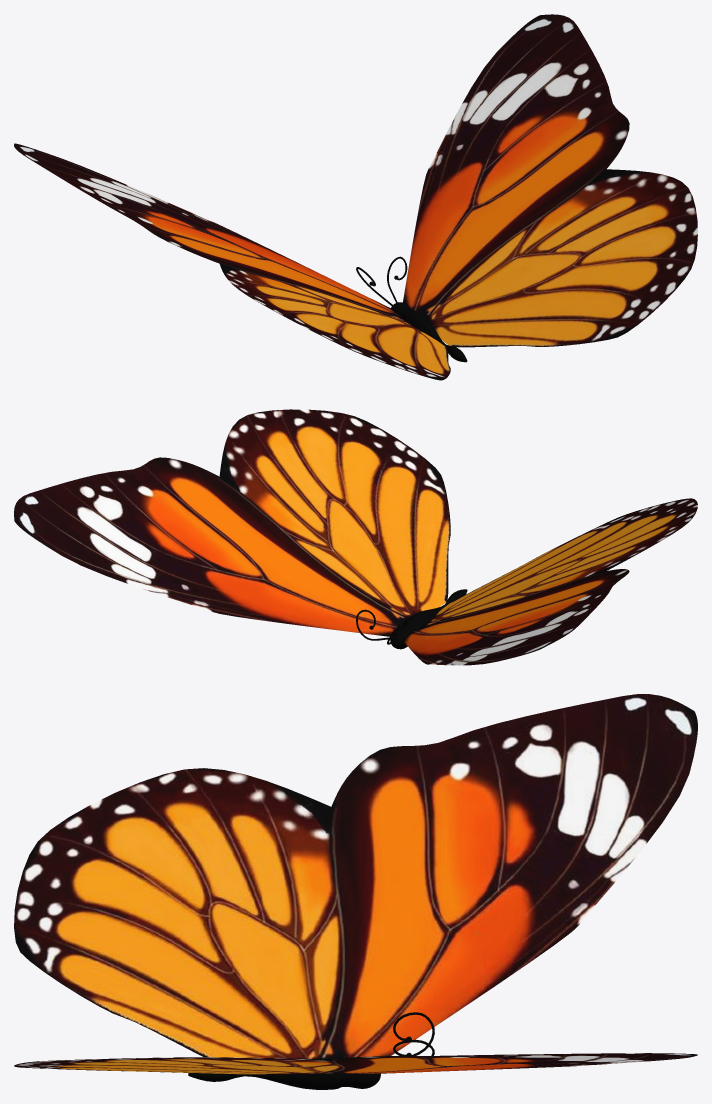
Rendered from butterfly.glb.
The picture shows the model from 3 angles, top to bottom: view 1: azimuth 30°, elevation 25°; view 2: azimuth 150°, elevation 25°; view 3: azimuth 270°, elevation 25°; orthographic projection. The views are drawn at different scales.
Visible parts, largest first — view 1: Node1; view 2: Node1; view 3: Node1.
Part boxes in pixels (box(x1,y1,x2,y2)): Node1: box(14, 14, 697, 380); Node1: box(14, 409, 697, 665); Node1: box(14, 694, 697, 1089).
Size of the model in its own units: 33.74 by 9.42 by 27.17.
1 material, 1 textured.
